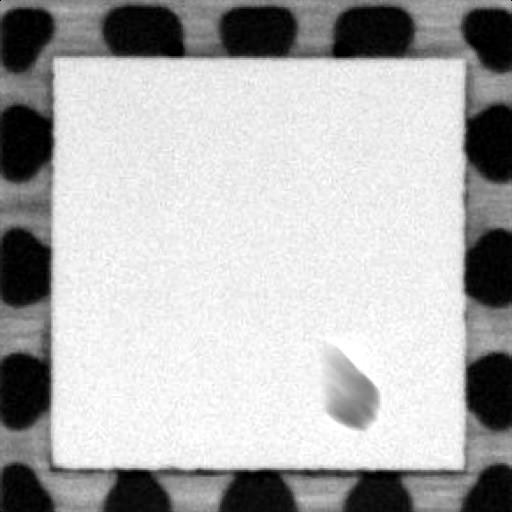DIE_INK: (315, 335, 375, 429)
